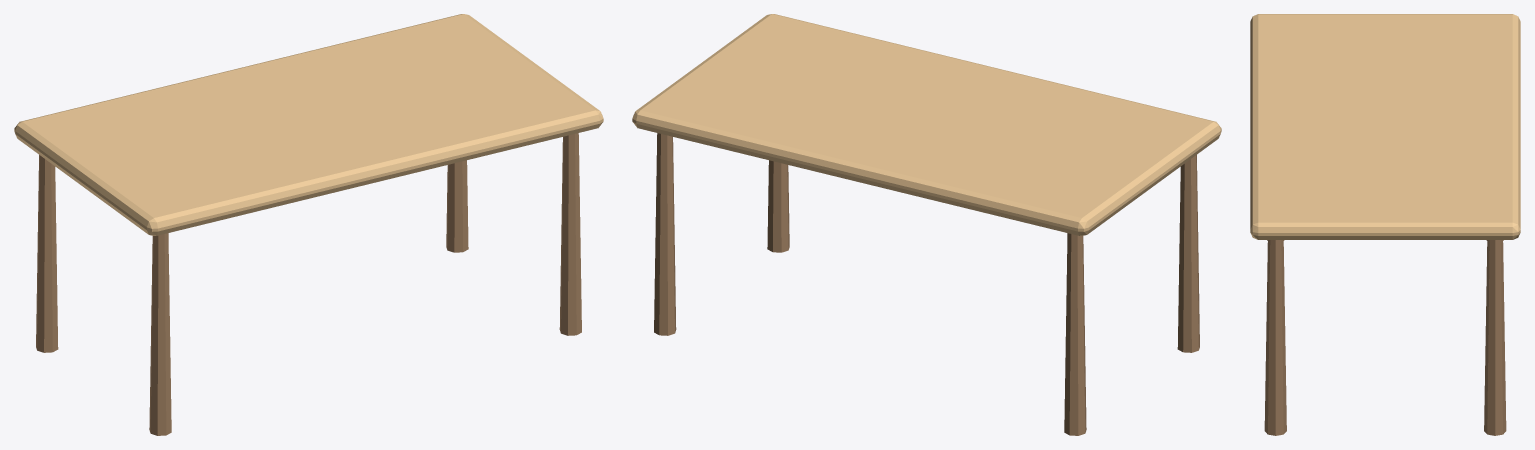
File: cozy-home-interiors-dining-table-ab8a1c65.glb
The picture shows the model from 3 angles, left to right: view 1: azimuth 30°, elevation 25°; view 2: azimuth 150°, elevation 25°; view 3: azimuth 270°, elevation 25°; orthographic projection. The views are drawn at different scales.
Parts seen in each view (by area): view 1: dining-table; view 2: dining-table; view 3: dining-table.
Boxes of the visible parts, x1,y1,x2,y2 form: dining-table: (14, 14, 603, 435); dining-table: (632, 14, 1221, 435); dining-table: (1250, 14, 1520, 435).
Bounding box in the file's own units: 1.6 × 0.75 × 0.8499.
